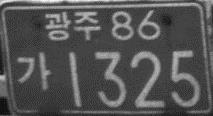1: (67, 49, 84, 108)
2: (129, 49, 165, 110)
3: (93, 50, 127, 108)
5: (169, 49, 201, 108)
6: (137, 8, 160, 40)
8: (111, 9, 134, 42)
가: (16, 51, 51, 92)
광주_O: (43, 9, 102, 42)
